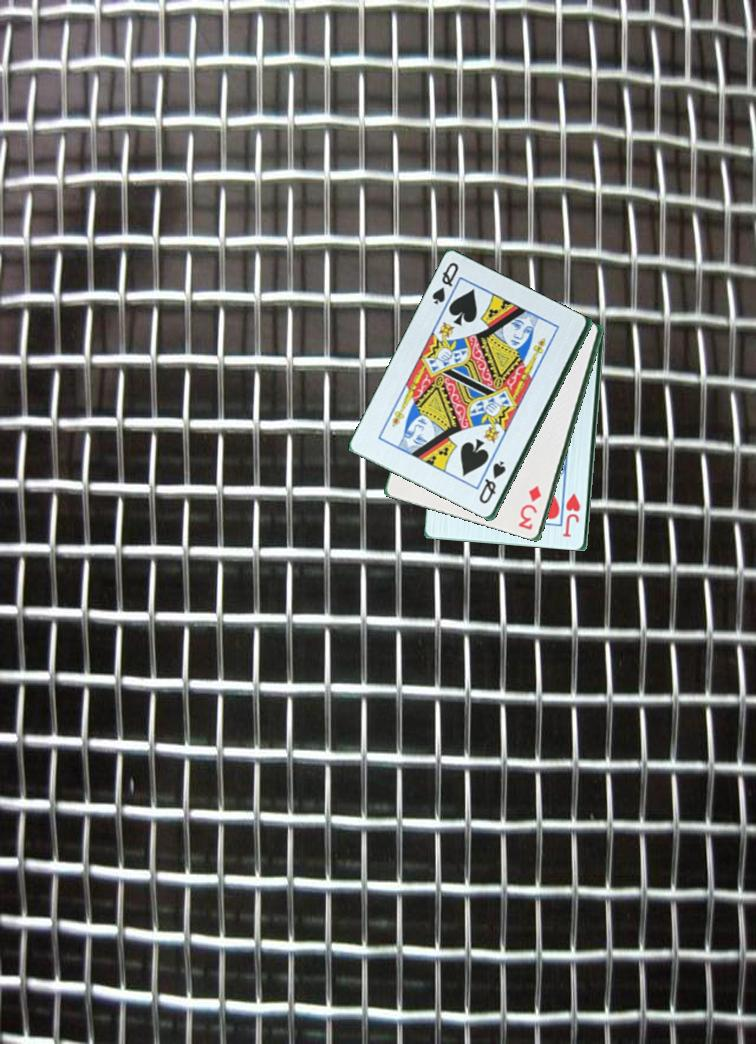3d: (517, 482, 545, 533)
jh: (562, 490, 583, 540)
qs: (428, 259, 462, 309), (475, 458, 509, 507)
